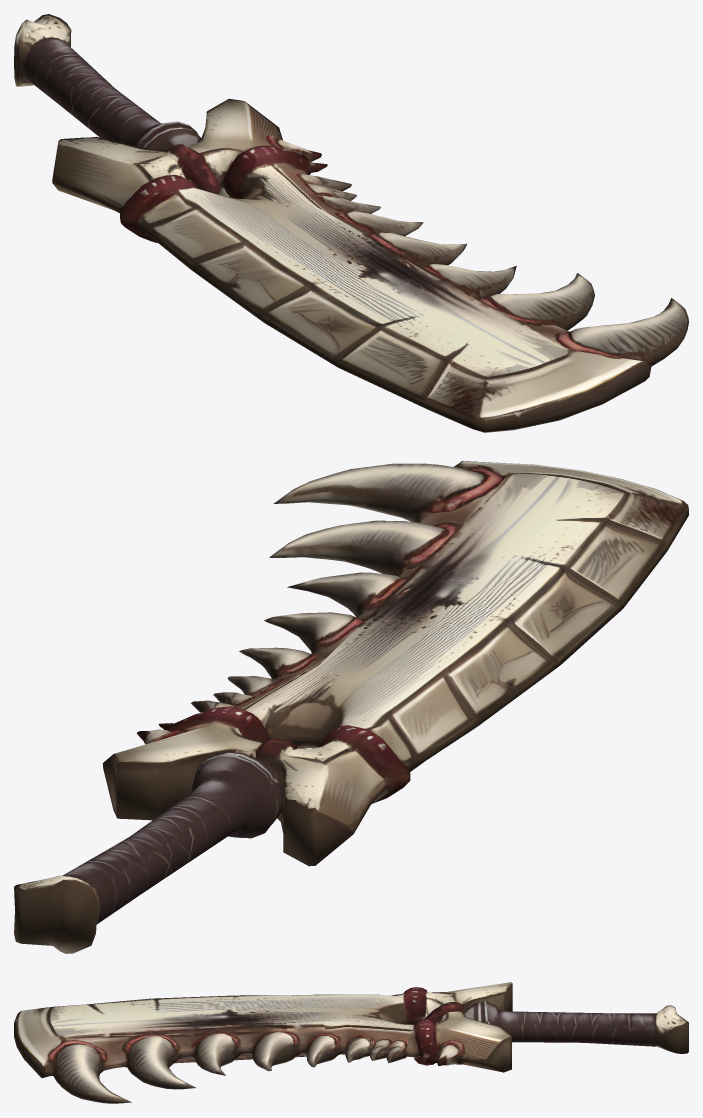
Rendered from EQ_Bone_jow.fbx.
The picture shows the model from 3 angles, top to bottom: view 1: azimuth 30°, elevation 25°; view 2: azimuth 150°, elevation 25°; view 3: azimuth 270°, elevation 25°; orthographic projection. The views are drawn at different scales.
Parts seen in each view (by area): view 1: Bone_Jow; view 2: Bone_Jow; view 3: Bone_Jow.
Part boxes in pixels (x1,y1,x2,y2): Bone_Jow: [14, 14, 688, 432]; Bone_Jow: [14, 461, 688, 953]; Bone_Jow: [14, 982, 688, 1103].
Size of the model in its own units: 106 by 20.82 by 274.
Materials: 1 (1 with a texture image).
